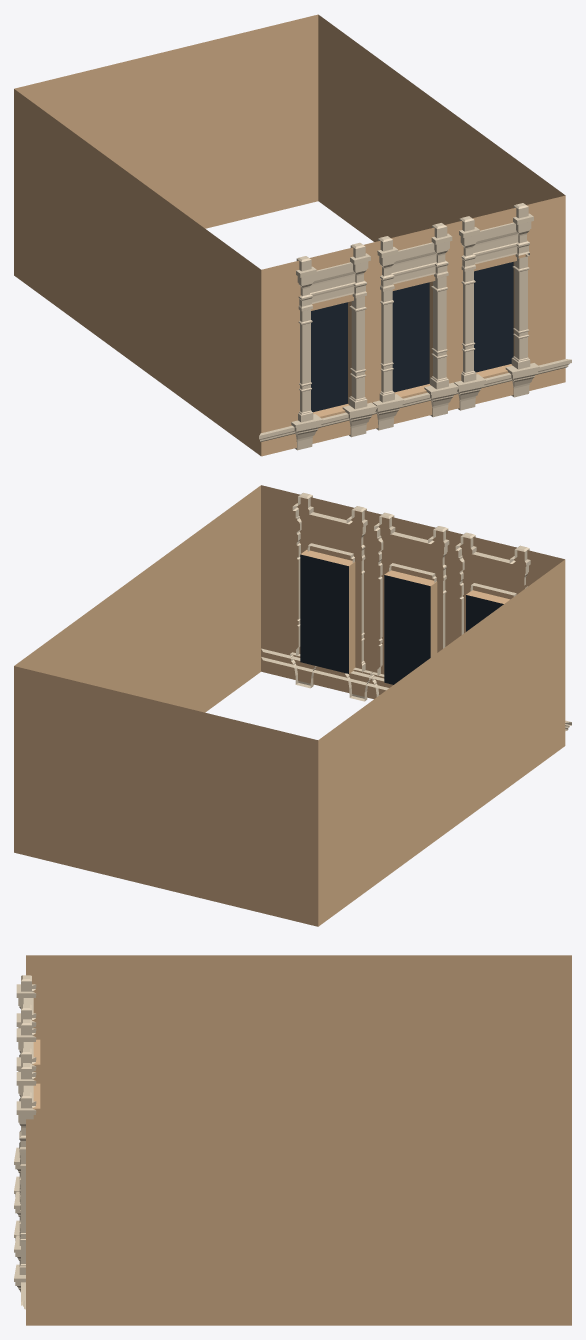
Rendered from B1_1stF_00.glb.
3 renders of one model, top to bottom at view 1: azimuth 30°, elevation 25°; view 2: azimuth 150°, elevation 25°; view 3: azimuth 270°, elevation 25°, orthographic. The views are drawn at different scales.
Parts seen in each view (by area): view 1: B1_1stF_00; view 2: B1_1stF_00; view 3: B1_1stF_00.
Boxes of the visible parts, <box> form: B1_1stF_00: <box>14,14,571,456</box>; B1_1stF_00: <box>14,485,571,926</box>; B1_1stF_00: <box>14,955,571,1325</box>.
Size of the model in its own units: 5.83 by 3.39 by 8.17.
